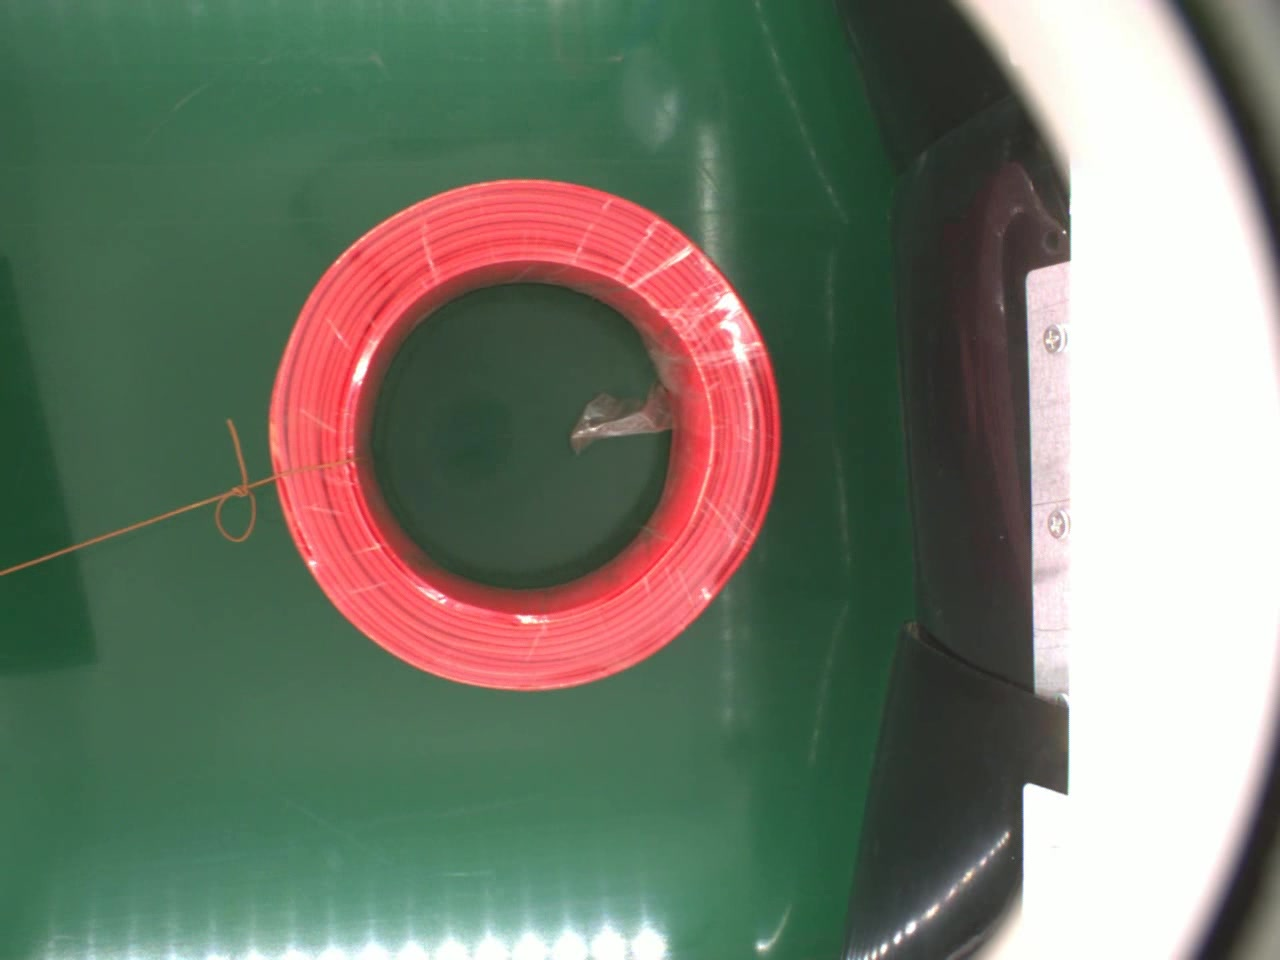red: (263, 174, 783, 698)
